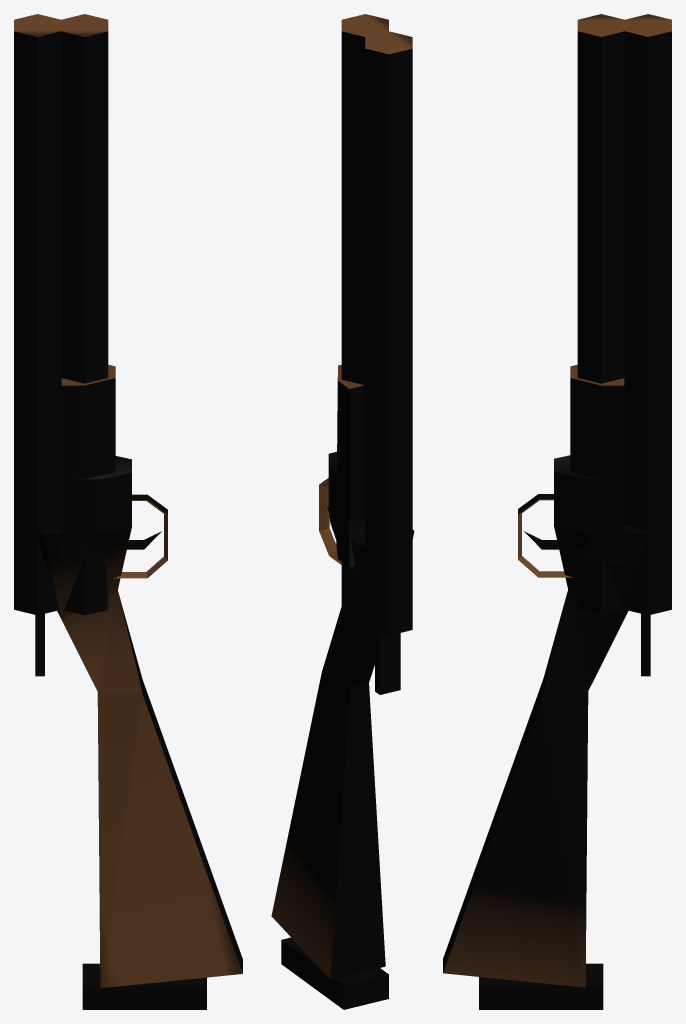
The model's file is HenryBigBoy__Mount_ScopeBase__RecoilPad_Rubber.fbx.
3 renders of one model, left to right at view 1: azimuth 90°, elevation 25°; view 2: azimuth 210°, elevation 25°; view 3: azimuth 270°, elevation 25°, orthographic.
Parts seen in each view (by area): view 1: asset_HenryBigBoy.001; view 2: asset_HenryBigBoy.001; view 3: asset_HenryBigBoy.001.
Part boxes in pixels (bbox=[...]): asset_HenryBigBoy.001: bbox=[14, 14, 242, 1009]; asset_HenryBigBoy.001: bbox=[271, 14, 414, 1009]; asset_HenryBigBoy.001: bbox=[443, 14, 671, 1009].
Size of the model in its own units: 0.0356 by 0.597 by 0.1272.
